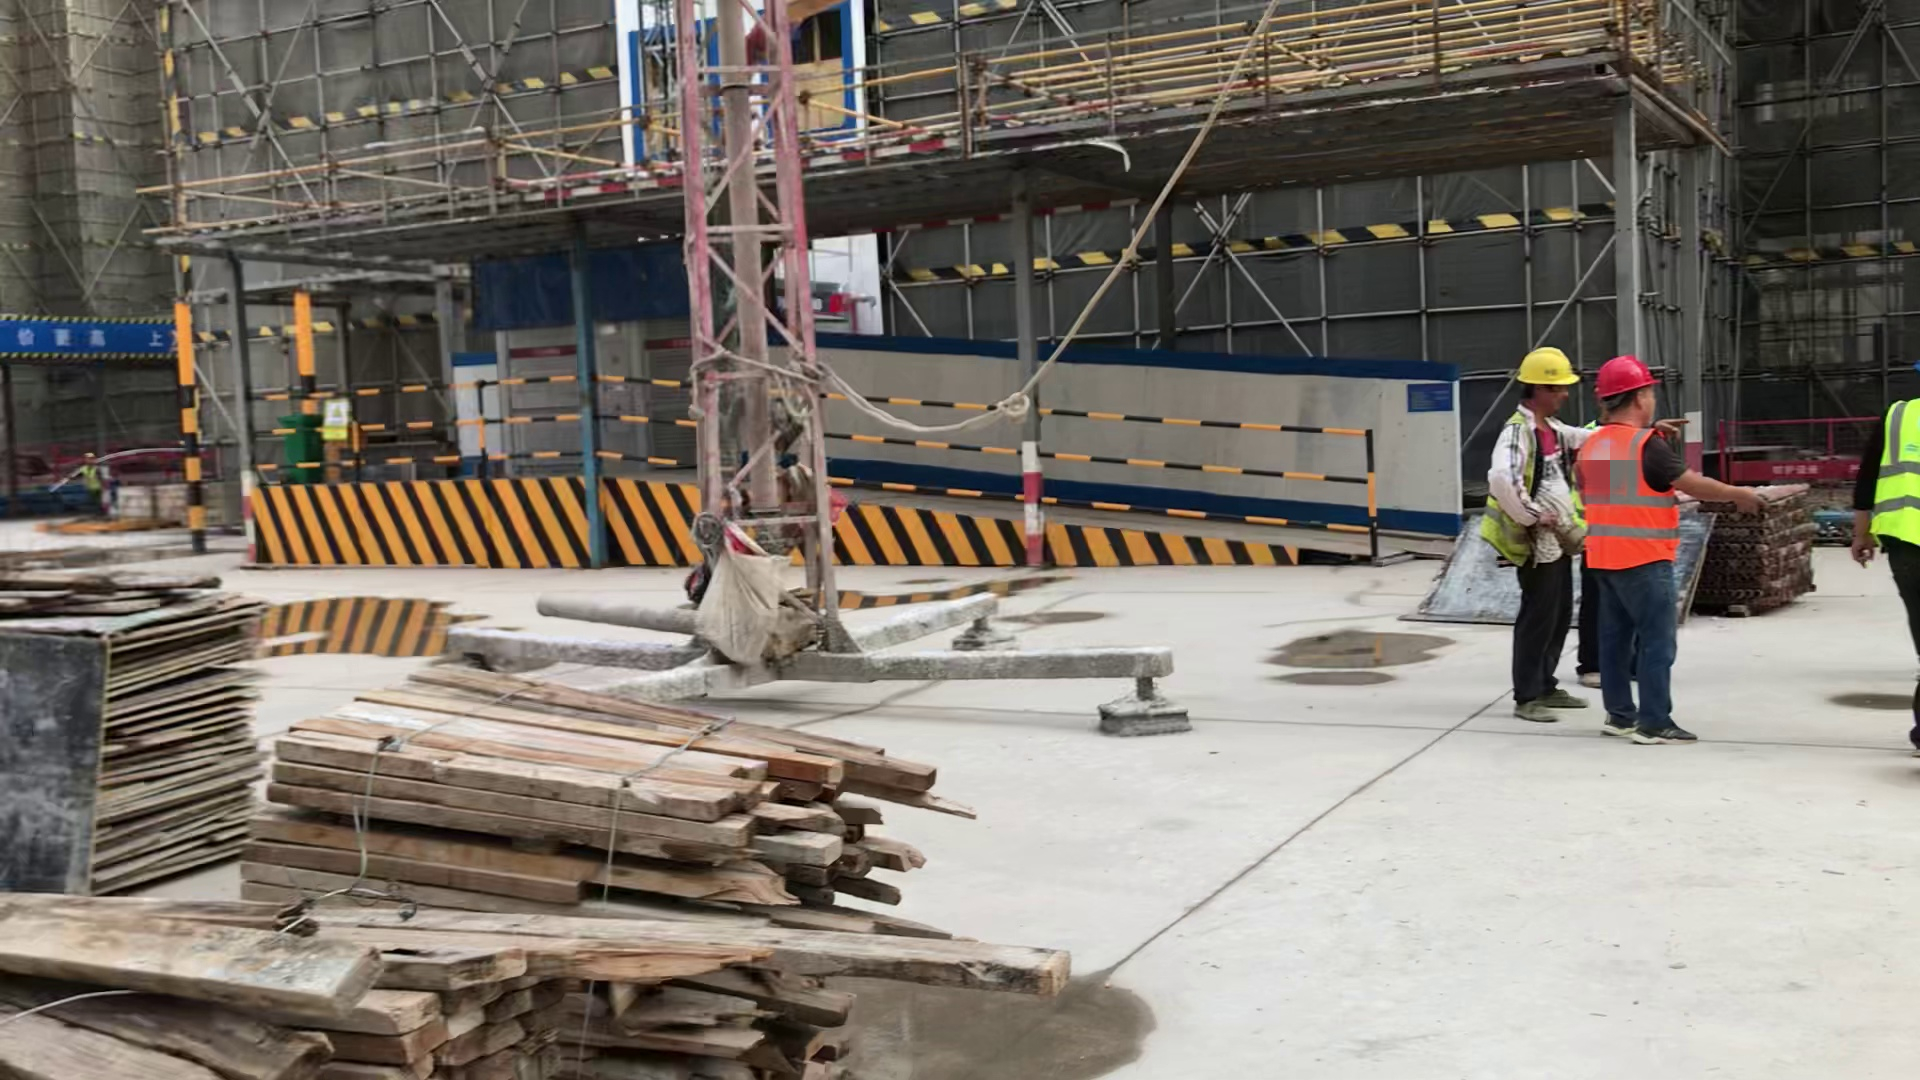board: (1, 576, 259, 887)
helmet: (1592, 357, 1661, 391), (1516, 347, 1575, 388)
person: (1572, 355, 1772, 748), (1480, 347, 1589, 722), (1850, 362, 1920, 751)
scaffold: (1705, 489, 1819, 604)
slogan: (4, 316, 177, 361)
vest: (1574, 424, 1678, 570), (1874, 397, 1920, 541)
wood: (240, 660, 939, 924), (1, 919, 1071, 1074)
